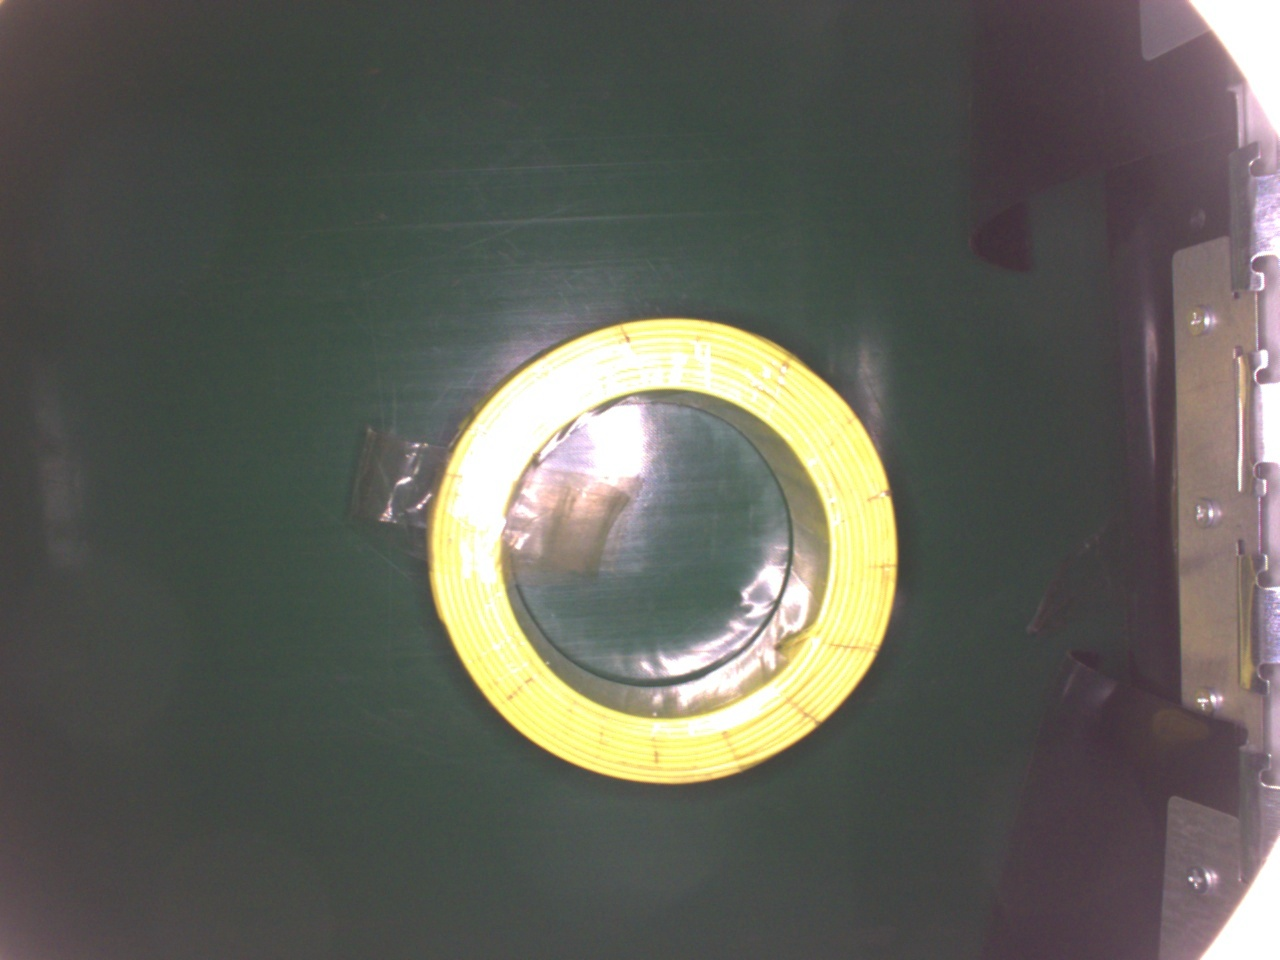yellow: (423, 303, 911, 786)
